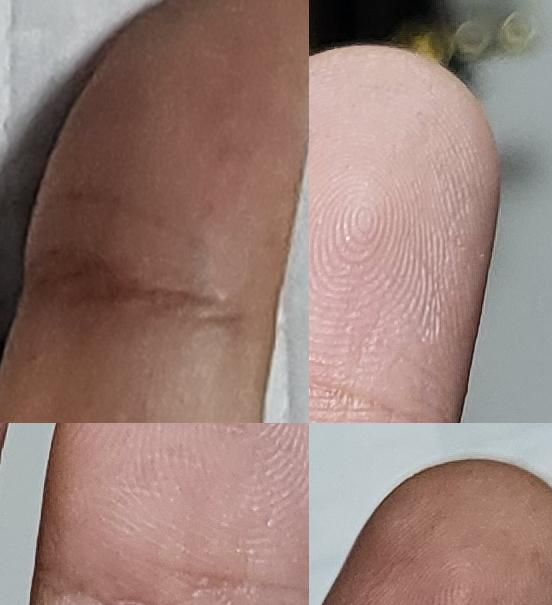Fingerprints: (25, 1, 309, 343), (309, 45, 499, 423), (62, 423, 309, 605), (321, 457, 552, 605)
